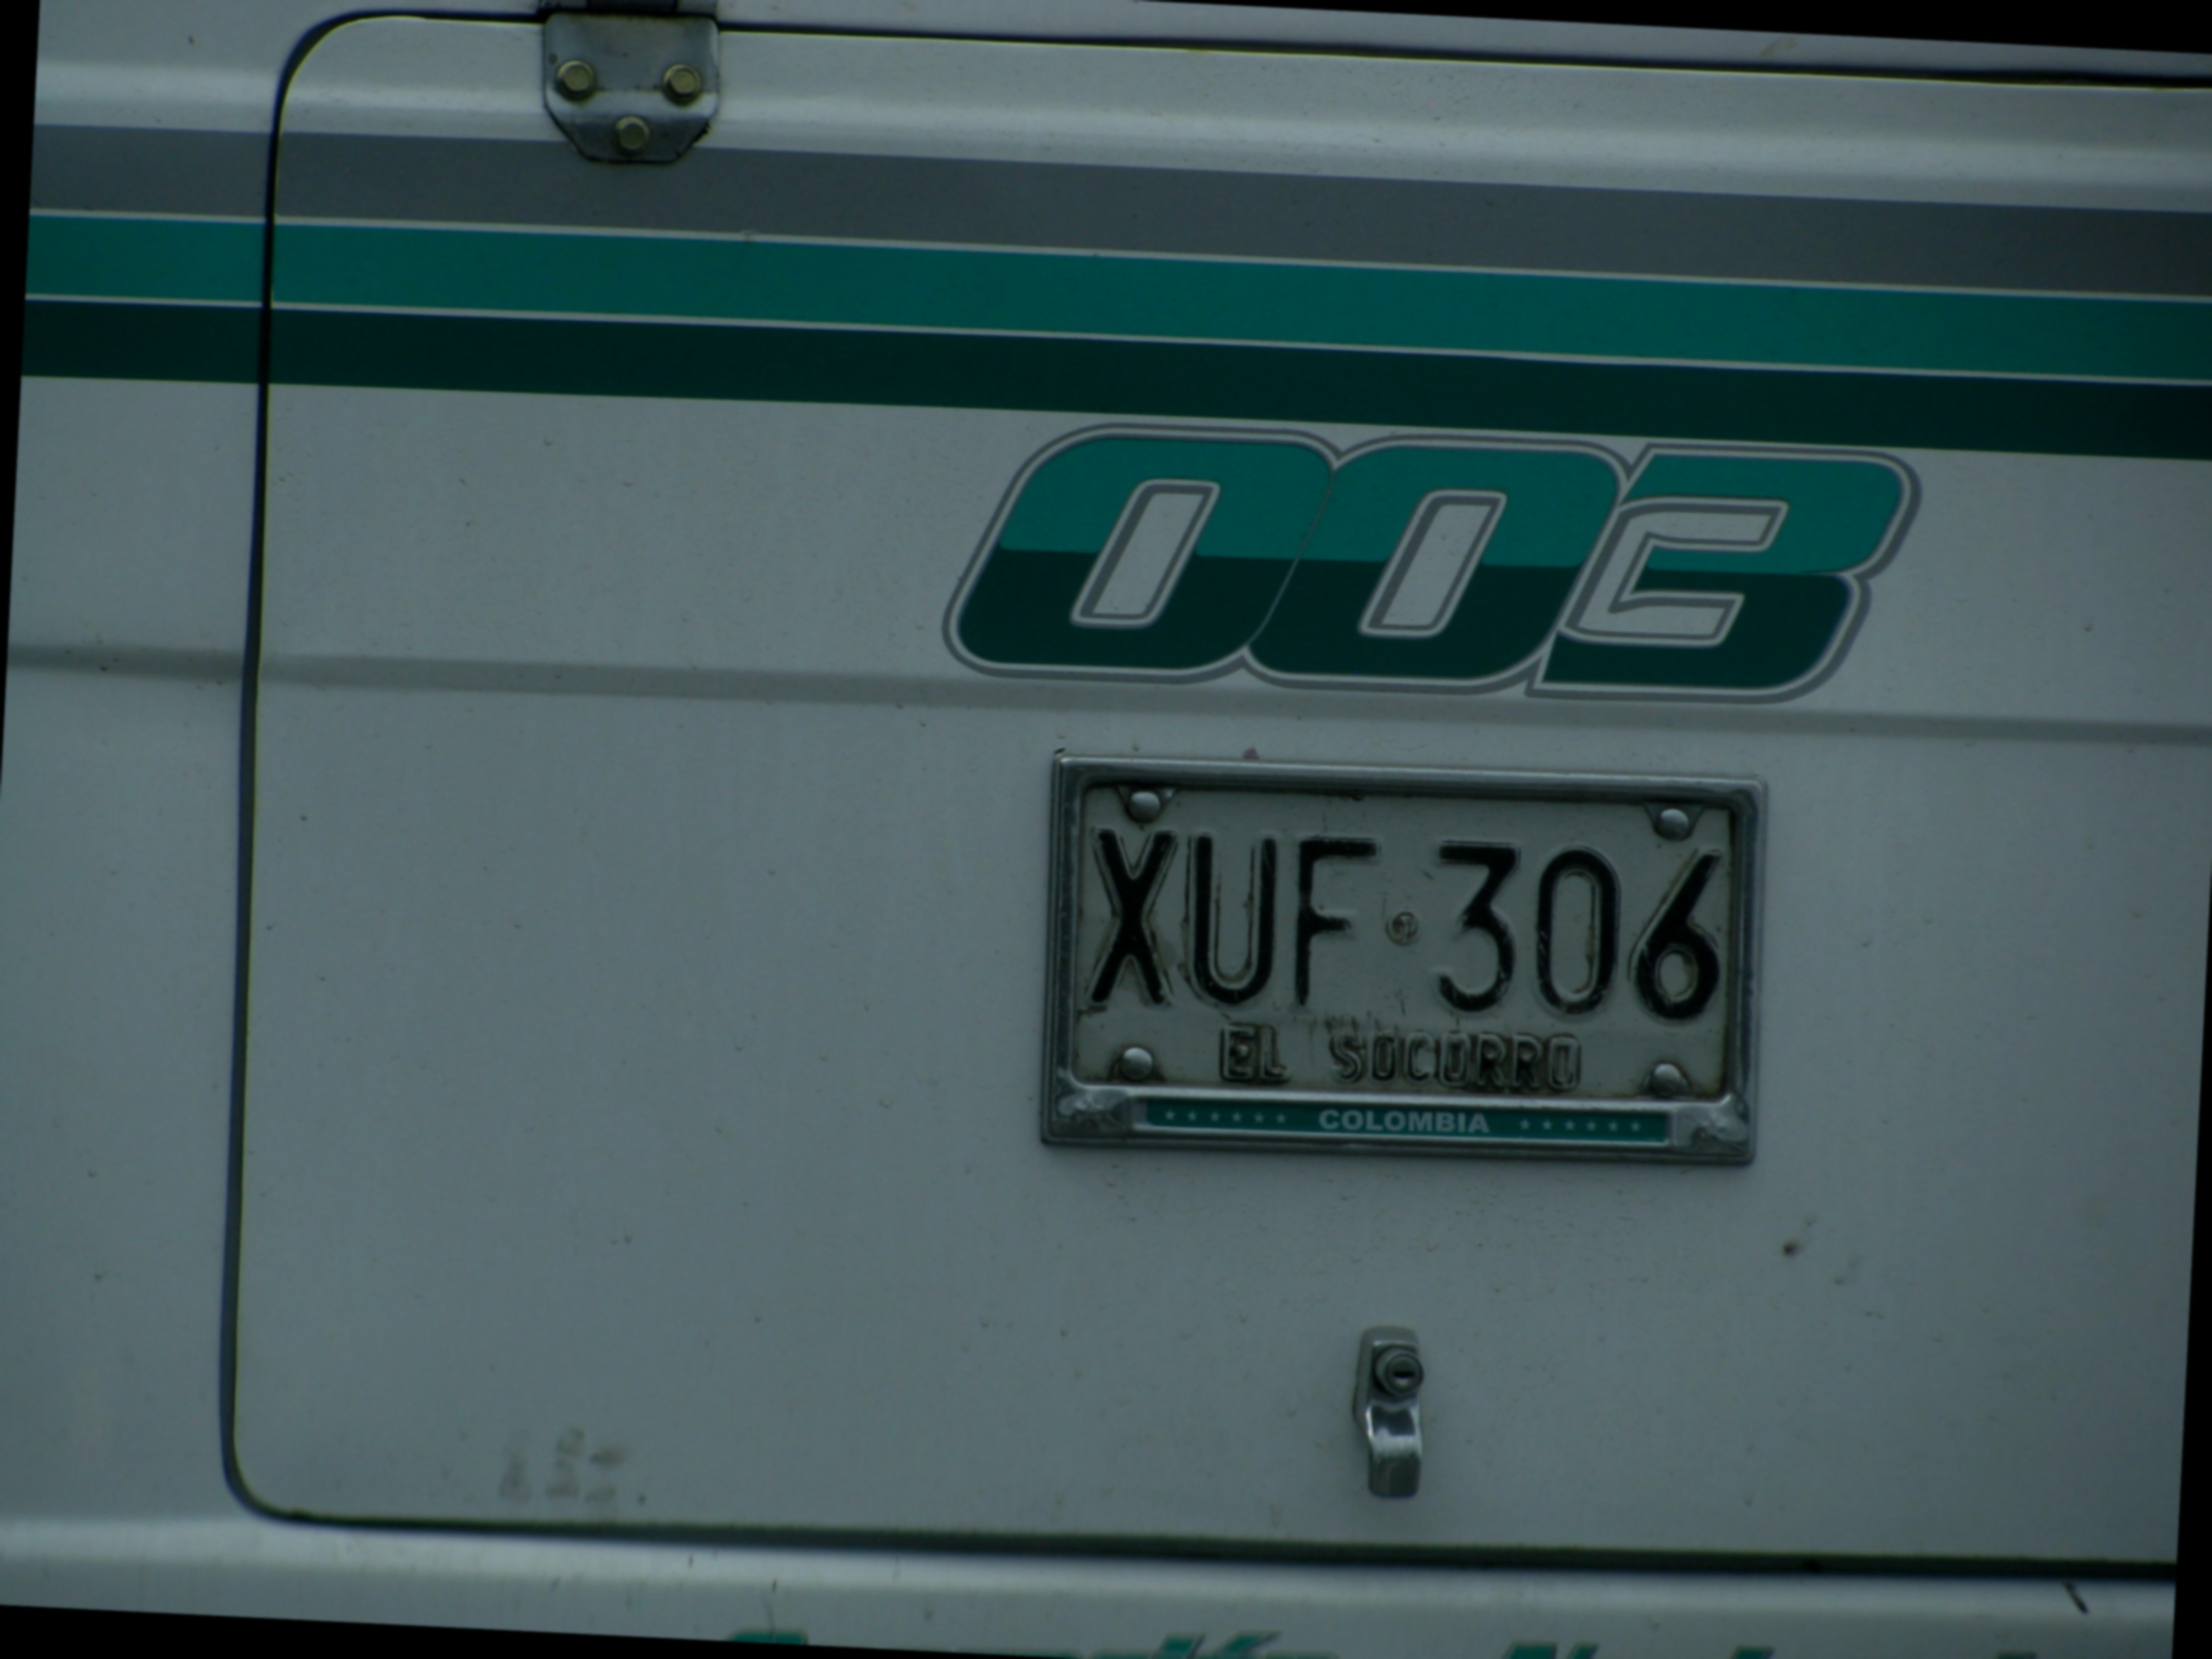placas: (1046, 744, 1758, 1110)
